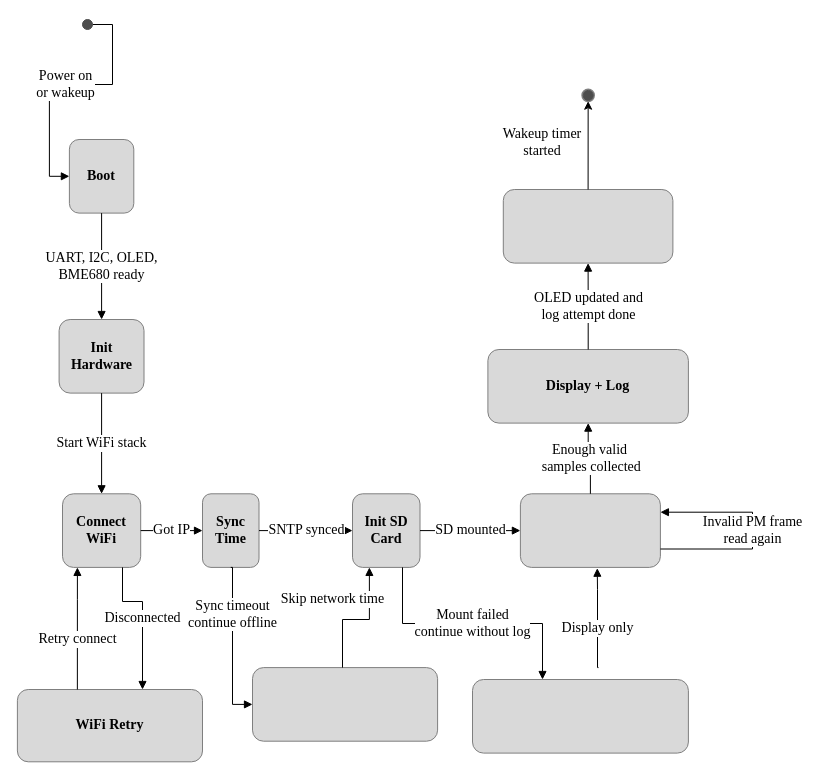
The diagram is 820 pixels wide and 780 high, and some of its shapes have lost their labels. Each missing label, with the box of its shape:
Deep Sleep: (502, 188, 673, 263)
Offline Mode: (252, 667, 438, 741)
Sampling PM + BME680: (519, 493, 660, 567)
SD Unavailable: (472, 678, 688, 753)
